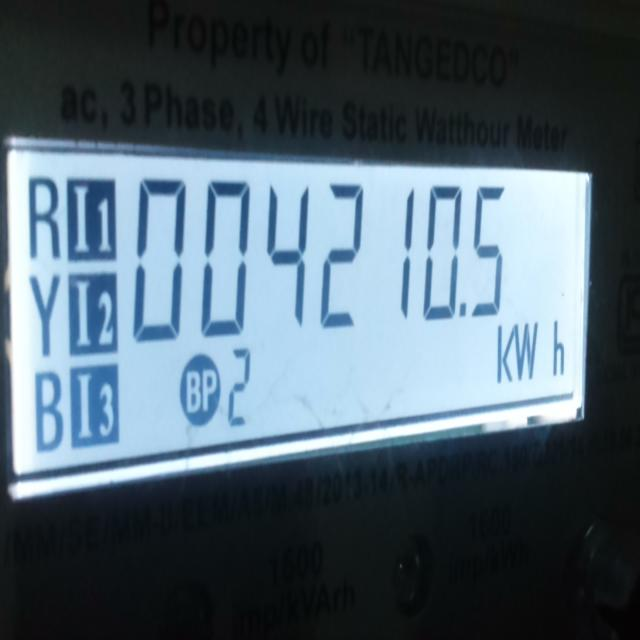.: (458, 301, 468, 317)
0: (135, 178, 185, 339), (202, 183, 249, 333), (425, 188, 458, 312)
1: (398, 184, 416, 319)
2: (323, 183, 360, 327)
4: (268, 187, 308, 328)
5: (474, 188, 504, 313)
